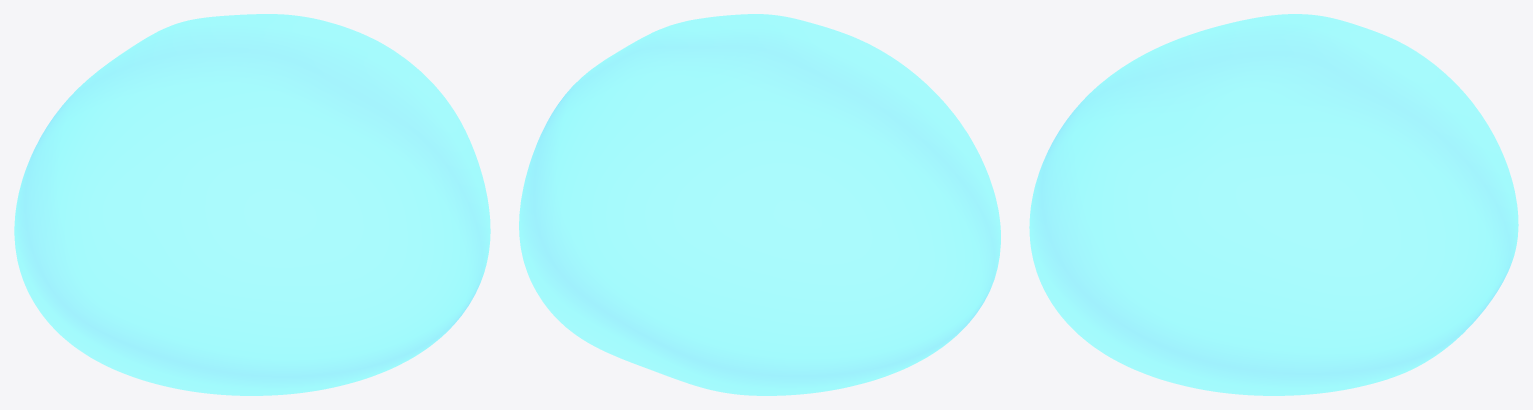
The model's file is slime_groot.glb.
The picture shows the model from 3 angles, left to right: view 1: azimuth 30°, elevation 25°; view 2: azimuth 150°, elevation 25°; view 3: azimuth 270°, elevation 25°; orthographic projection. The views are drawn at different scales.
Visible parts, largest first — view 1: Sphere_0; view 2: Sphere_0; view 3: Sphere_0.
Part boxes in pixels (x1,y1,x2,y2): Sphere_0: (14, 14, 490, 395); Sphere_0: (519, 14, 1000, 395); Sphere_0: (1029, 14, 1518, 395).
Size of the model in its own units: 0.7039 by 0.4875 by 0.7049.
